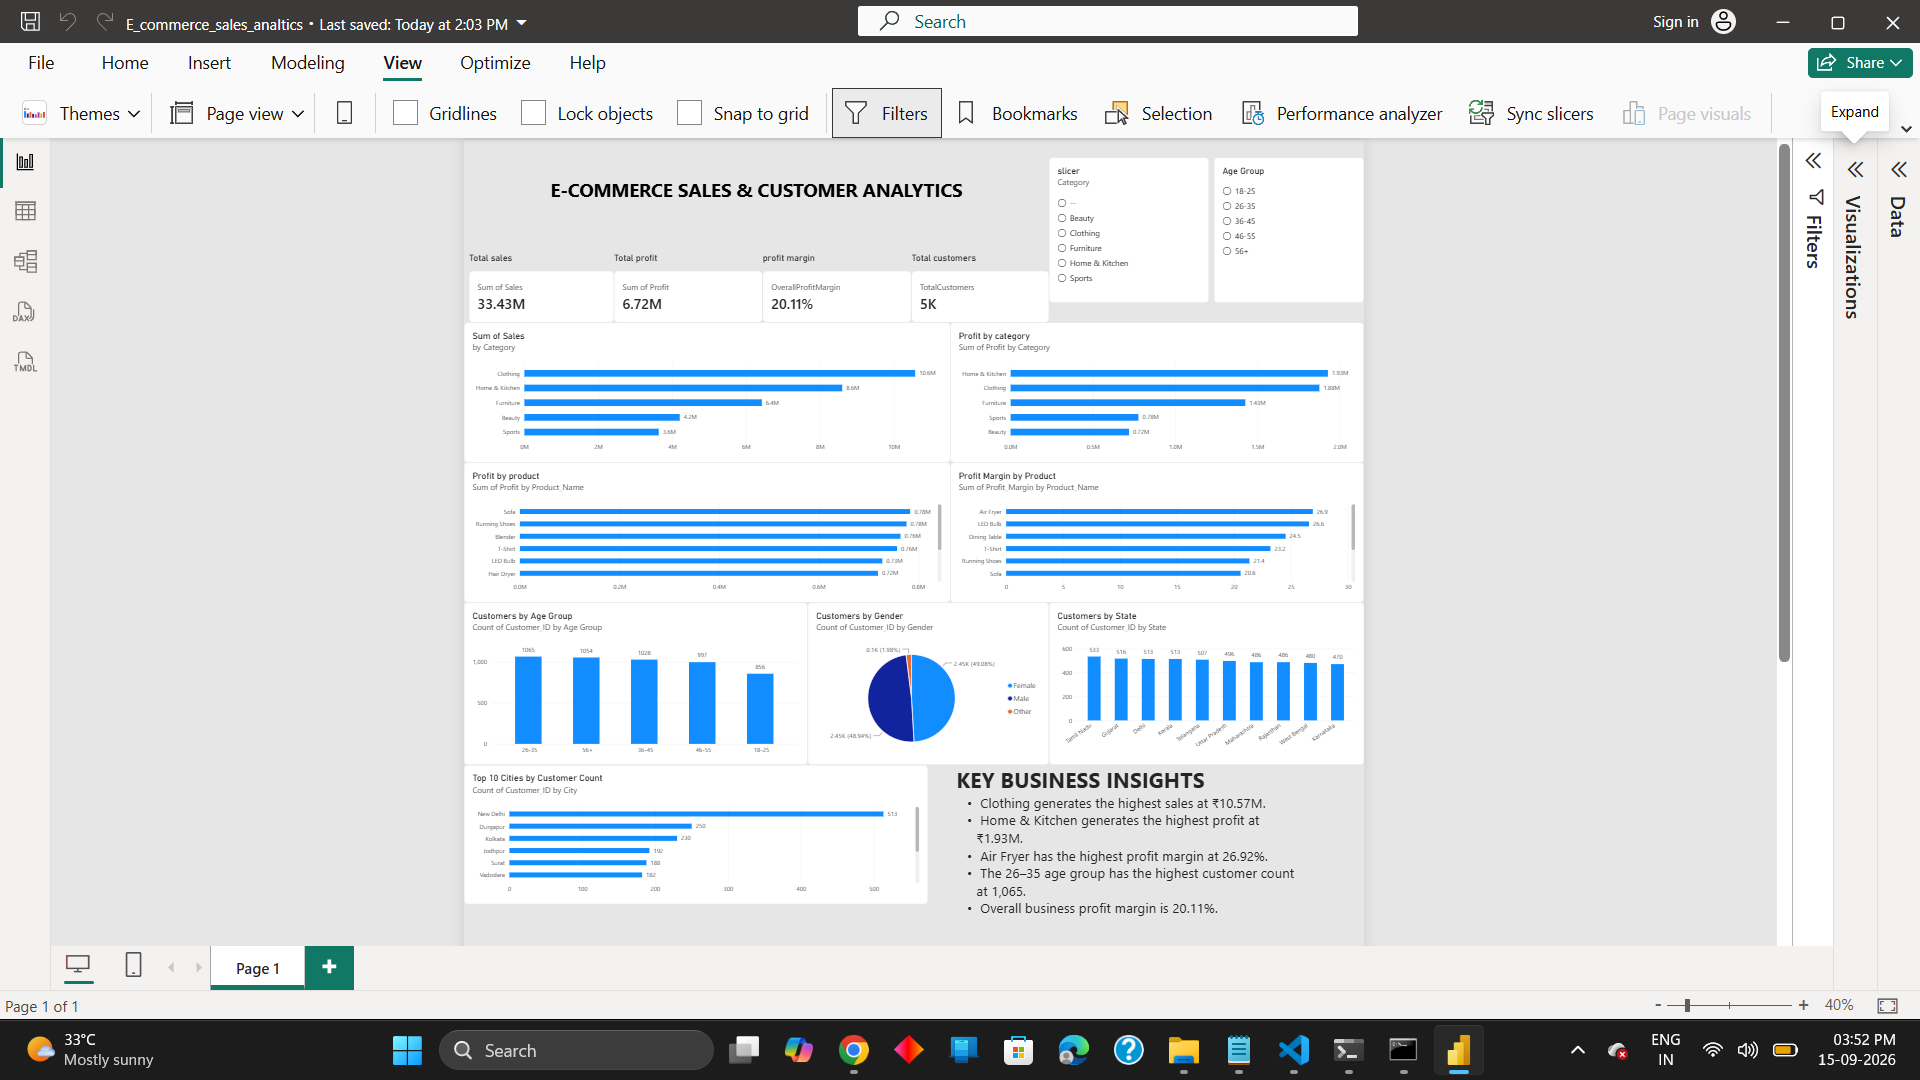

What the dashboard file says about the page in this screenshot:
{"tool":"powerbi","page":{"name":"Page 1","canvas":[1800,2500],"ordinal":0},"visuals":[{"type":"cardVisual","title":"Total profit","fields":{"Data":["Sum(ecommerce_analytics orders_analysis.Profit)"]},"box":[300,225,297.5,140],"z":0},{"type":"cardVisual","title":"profit margin ","fields":{"Data":["ecommerce_analytics customers.OverallProfitMargin","ecommerce_analytics customers.OverallProfitMargin"]},"box":[597.5,225,297.5,140],"z":1000},{"type":"cardVisual","title":"Total customers ","fields":{"Data":["ecommerce_analytics customers.TotalCustomers"]},"box":[895,225,275,140],"z":2000},{"type":"clusteredBarChart","fields":{"Category":["ecommerce_analytics orders_analysis.Category"],"Y":["Sum(ecommerce_analytics orders_analysis.Sales)"]},"box":[0,365,972.5,280],"z":3000},{"type":"clusteredBarChart","title":"Profit by category ","fields":{"Category":["ecommerce_analytics orders_analysis.Category"],"Y":["Sum(ecommerce_analytics orders_analysis.Profit)"]},"box":[972.5,365,827.5,280],"z":4000},{"type":"clusteredBarChart","title":"Profit Margin by Product","fields":{"Category":["ecommerce_analytics orders_analysis.Product_Name"],"Y":["Sum(ecommerce_analytics orders_analysis.Profit_Margin)"]},"box":[972.5,645,827.5,280],"z":5000},{"type":"pieChart","title":"Customers by Gender","fields":{"Category":["ecommerce_analytics customers.Gender"],"Y":["CountNonNull(ecommerce_analytics customers.Customer_ID)"]},"box":[687.5,925,482.5,325],"z":6000},{"type":"clusteredColumnChart","title":"Customers by Age Group","fields":{"Category":["ecommerce_analytics customers.Age Group"],"Y":["CountNonNull(ecommerce_analytics customers.Customer_ID)"]},"box":[0,925,687.5,325],"z":7000},{"type":"clusteredColumnChart","title":"Customers by State","fields":{"Category":["ecommerce_analytics customers.State"],"Y":["CountNonNull(ecommerce_analytics customers.Customer_ID)"]},"box":[1170,925,630,325],"z":8000},{"type":"clusteredBarChart","title":"Top 10 Cities by Customer Count","fields":{"Category":["ecommerce_analytics customers.City"],"Y":["CountNonNull(ecommerce_analytics customers.Customer_ID)"]},"box":[0,1250,928,278],"z":9000},{"type":"cardVisual","title":"Total sales ","fields":{"Data":["Sum(ecommerce_analytics orders_analysis.Sales)"]},"box":[10,225,290,140],"z":10000},{"type":"clusteredBarChart","title":"Profit by product ","fields":{"Category":["ecommerce_analytics orders_analysis.Product_Name"],"Y":["Sum(ecommerce_analytics orders_analysis.Profit)"]},"box":[0,645,972.5,280],"z":11000},{"type":"textbox","box":[10,0,1160,202.9],"z":12000},{"type":"listSlicer","title":"slicer ","fields":{"Values":["ecommerce_analytics orders_analysis.Category"]},"box":[1170,36,320,290],"z":13000},{"type":"listSlicer","fields":{"Values":["ecommerce_analytics customers.Age Group"]},"box":[1500,36,300,290],"z":14000},{"type":"textbox","box":[986,1250,688,426],"z":14001}]}

Visuals, with their boxes on the page's 1800x2500 design canvas (x1, y1, x2, y2). These are canvas units, not pixel positions in the 1920x1080 screenshot, which may show the page scaled, cropped or inside an application window:
"Total profit" cardVisual: region(300, 225, 598, 365)
"profit margin " cardVisual: region(598, 225, 895, 365)
"Total customers " cardVisual: region(895, 225, 1170, 365)
clusteredBarChart - ecommerce_analytics orders_analysis.Category x Sum(ecommerce_analytics orders_analysis.Sales): region(0, 365, 972, 645)
"Profit by category " clusteredBarChart: region(972, 365, 1800, 645)
"Profit Margin by Product" clusteredBarChart: region(972, 645, 1800, 925)
"Customers by Gender" pieChart: region(688, 925, 1170, 1250)
"Customers by Age Group" clusteredColumnChart: region(0, 925, 688, 1250)
"Customers by State" clusteredColumnChart: region(1170, 925, 1800, 1250)
"Top 10 Cities by Customer Count" clusteredBarChart: region(0, 1250, 928, 1528)
"Total sales " cardVisual: region(10, 225, 300, 365)
"Profit by product " clusteredBarChart: region(0, 645, 972, 925)
textbox: region(10, 0, 1170, 203)
"slicer " listSlicer: region(1170, 36, 1490, 326)
listSlicer - ecommerce_analytics customers.Age Group: region(1500, 36, 1800, 326)
textbox: region(986, 1250, 1674, 1676)
